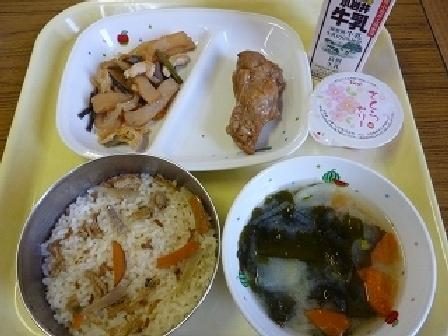Cup desserts: (299, 70, 412, 157)
Meat: (214, 44, 301, 146)
Milk: (304, 2, 400, 75)
Mixed rice: (11, 163, 214, 331)
Soups: (239, 167, 431, 331)
salad with sauce: (82, 35, 195, 138)
